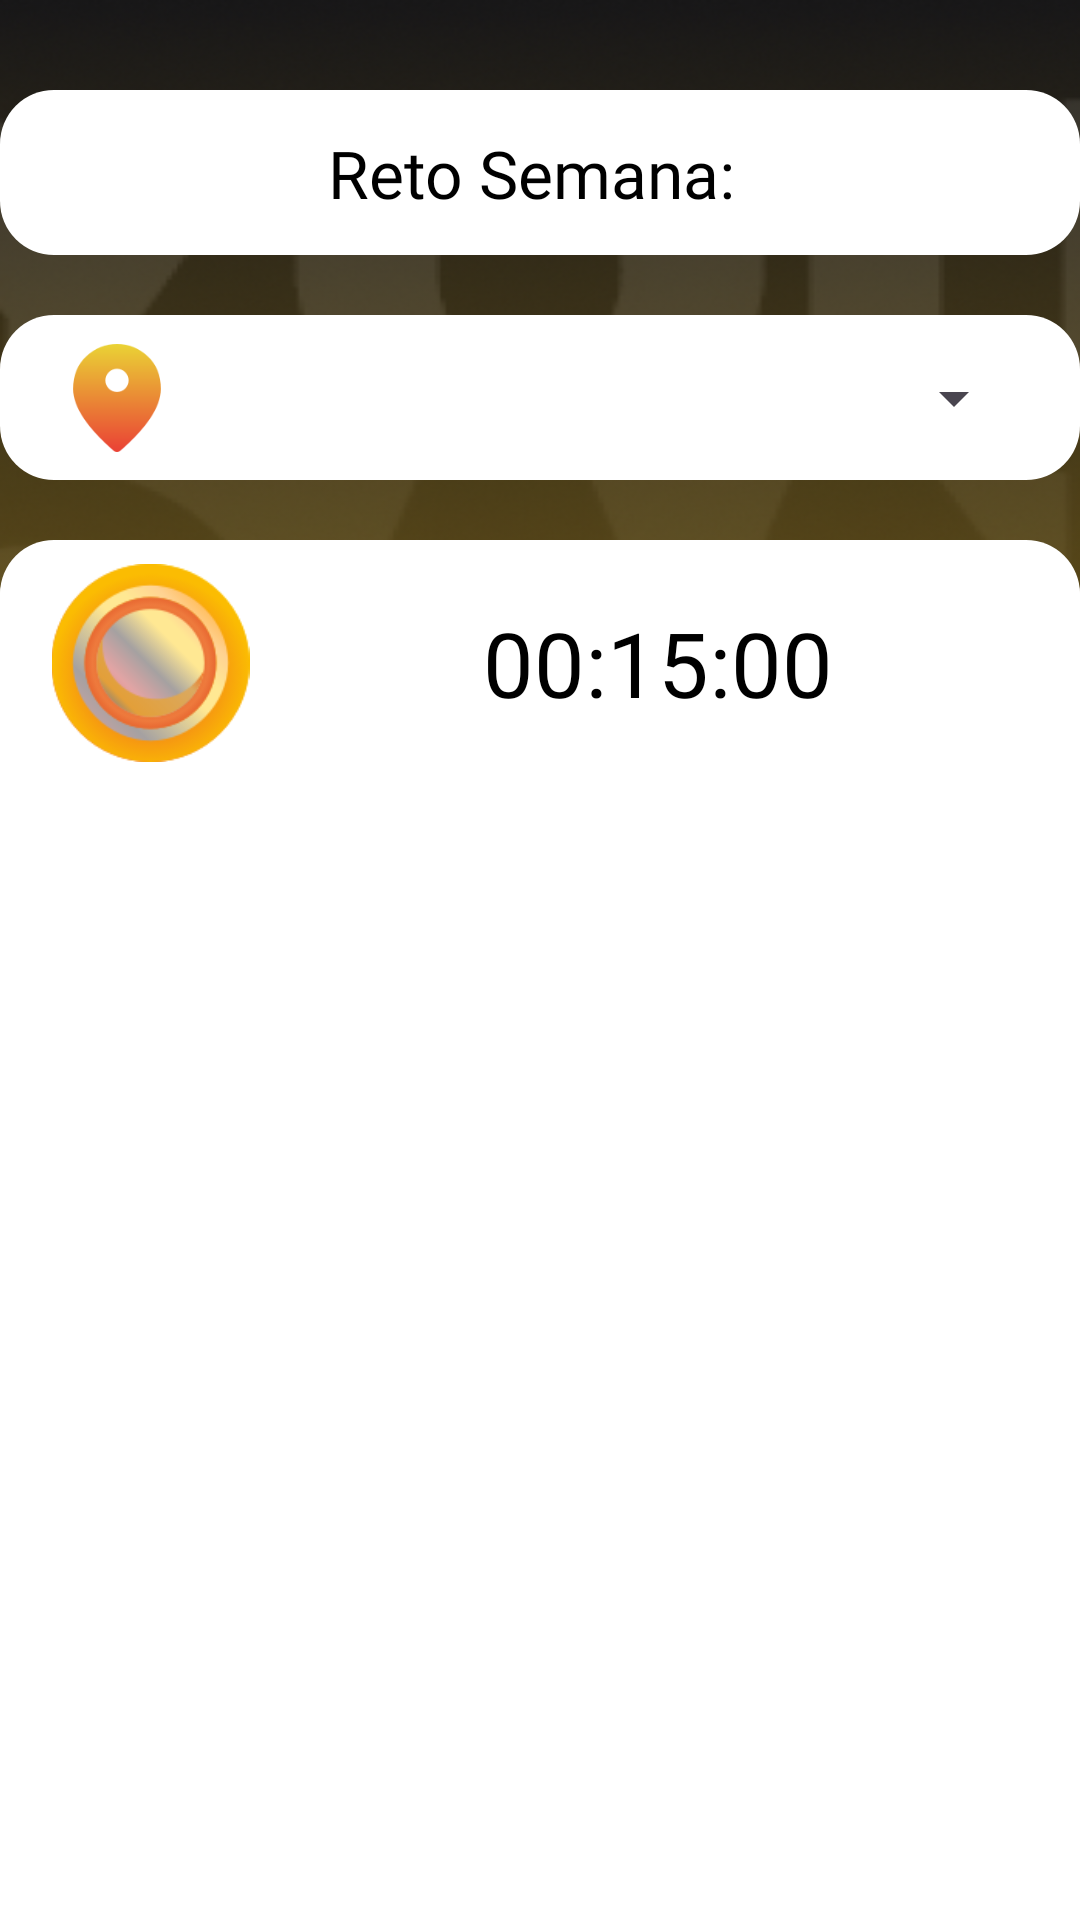

Named icons in this screenshot (1080*1920) and their bounding boxes, (x1, y1, x2, y2):
boton: (52, 564, 250, 762)
localizacion: (73, 344, 161, 452)
